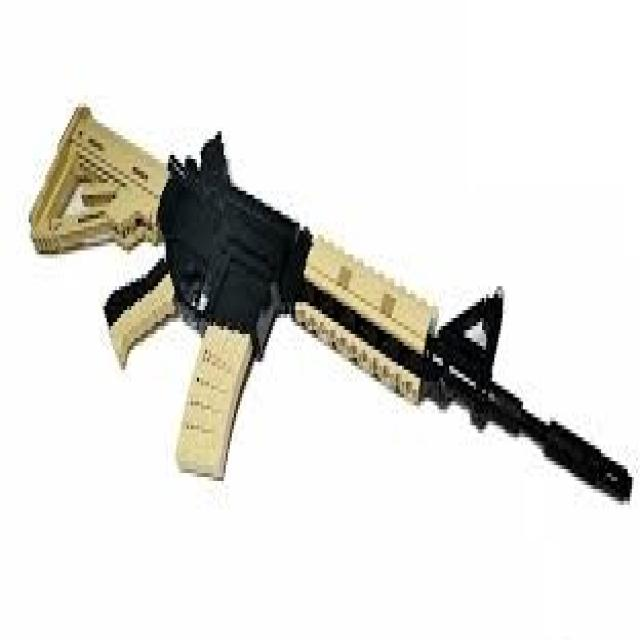rifle: (21, 87, 639, 520)
